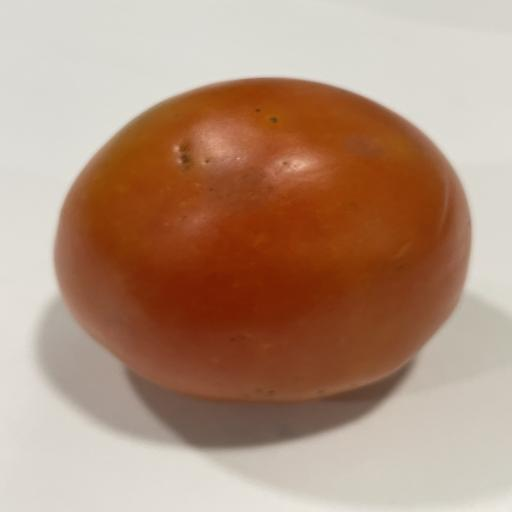unripe: (55, 78, 471, 402)
